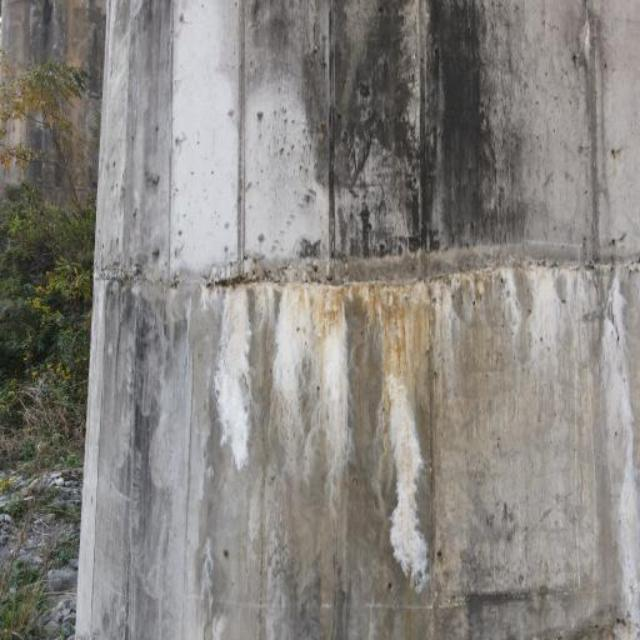D01: (602, 266, 639, 621), (386, 338, 427, 585), (214, 286, 253, 469)
